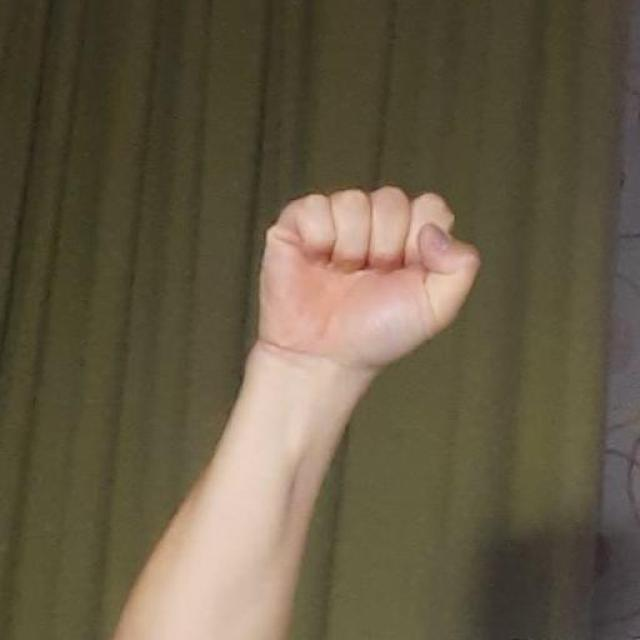hand: (254, 182, 481, 372)
